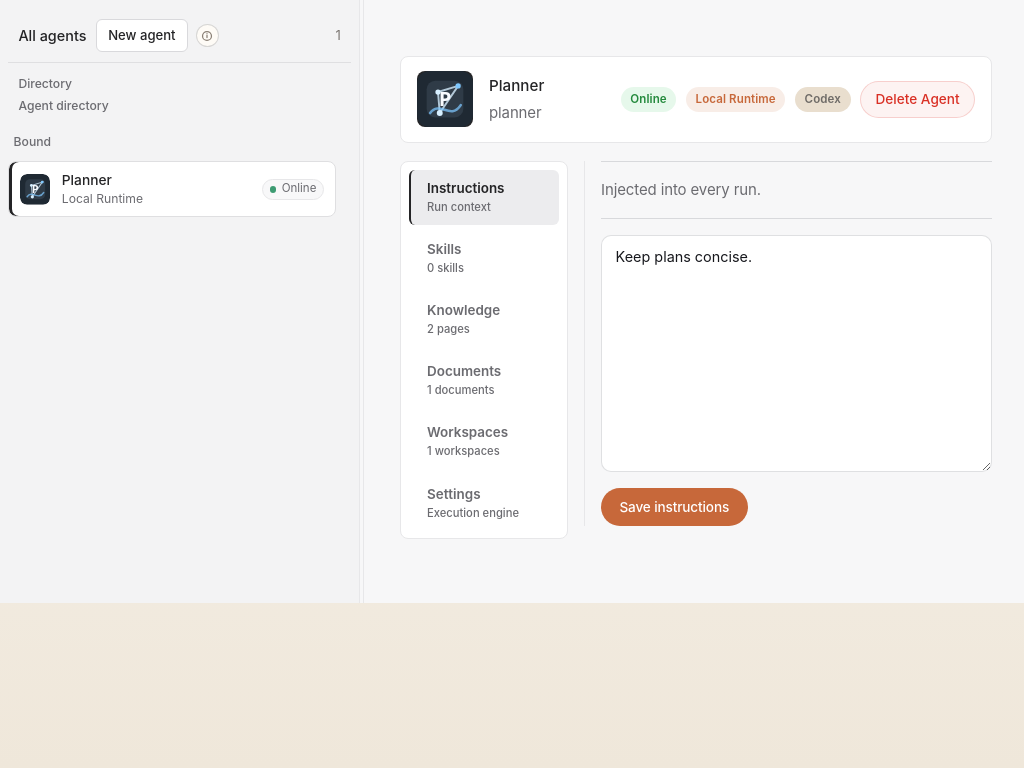
Test: AgentsPageClient › shows agent knowledge assignments
The width and height of the screenshot is (1024, 768).
Click the button "Knowledge 2 pages". click: (484, 320)
box: [409,292,559,347]
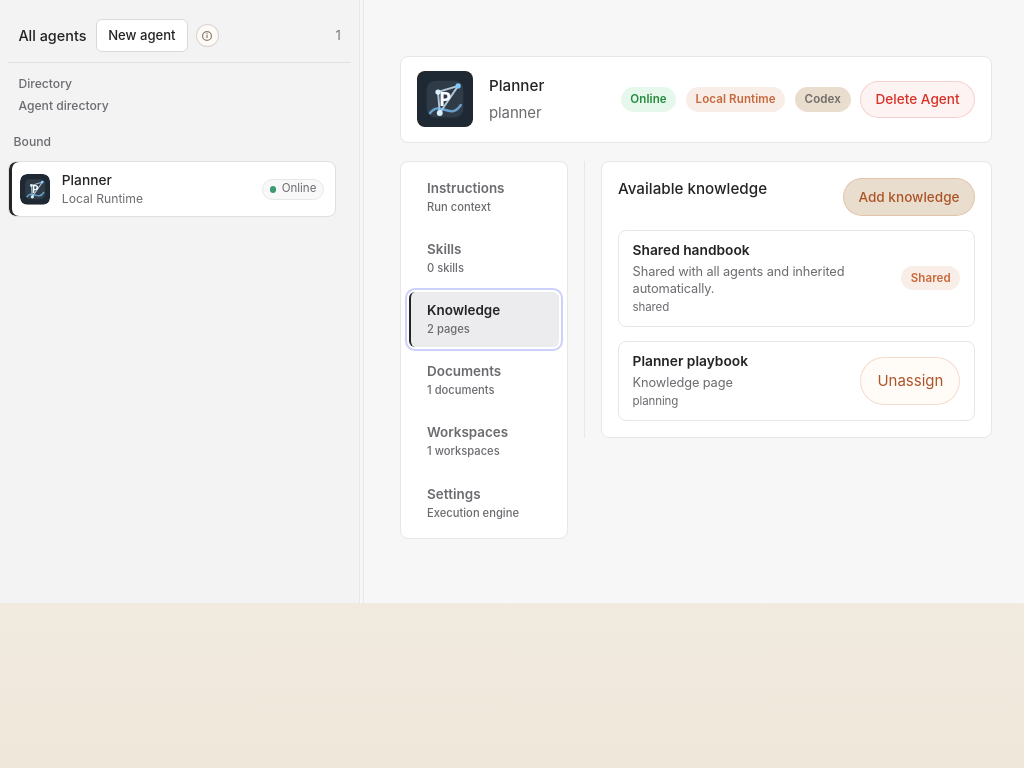
Expected: the text "Shared handbook" is shown, [633,242,750,258]
Expected: the text "Planner playbook" is shown, [633,353,748,369]
